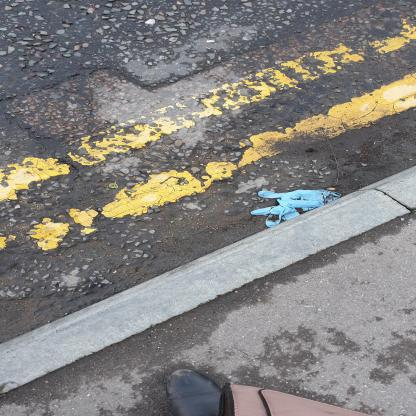plastik: (252, 191, 344, 229)
